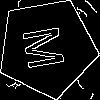M: (22, 23, 74, 71)
